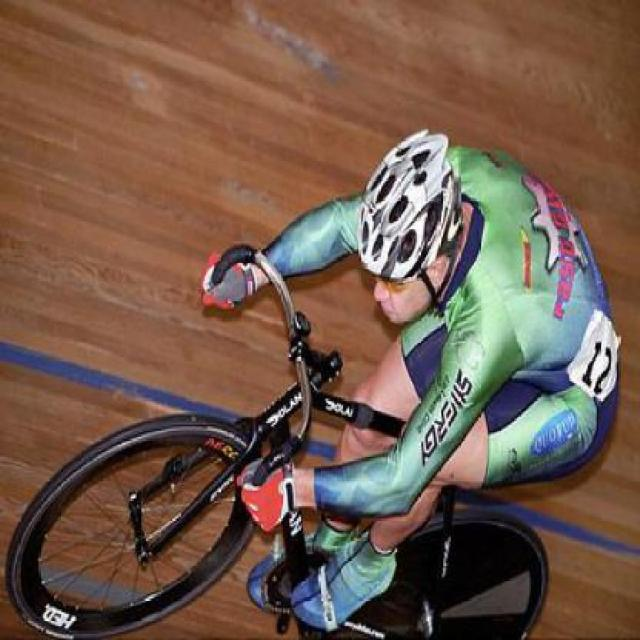Person: (201, 125, 621, 630)
